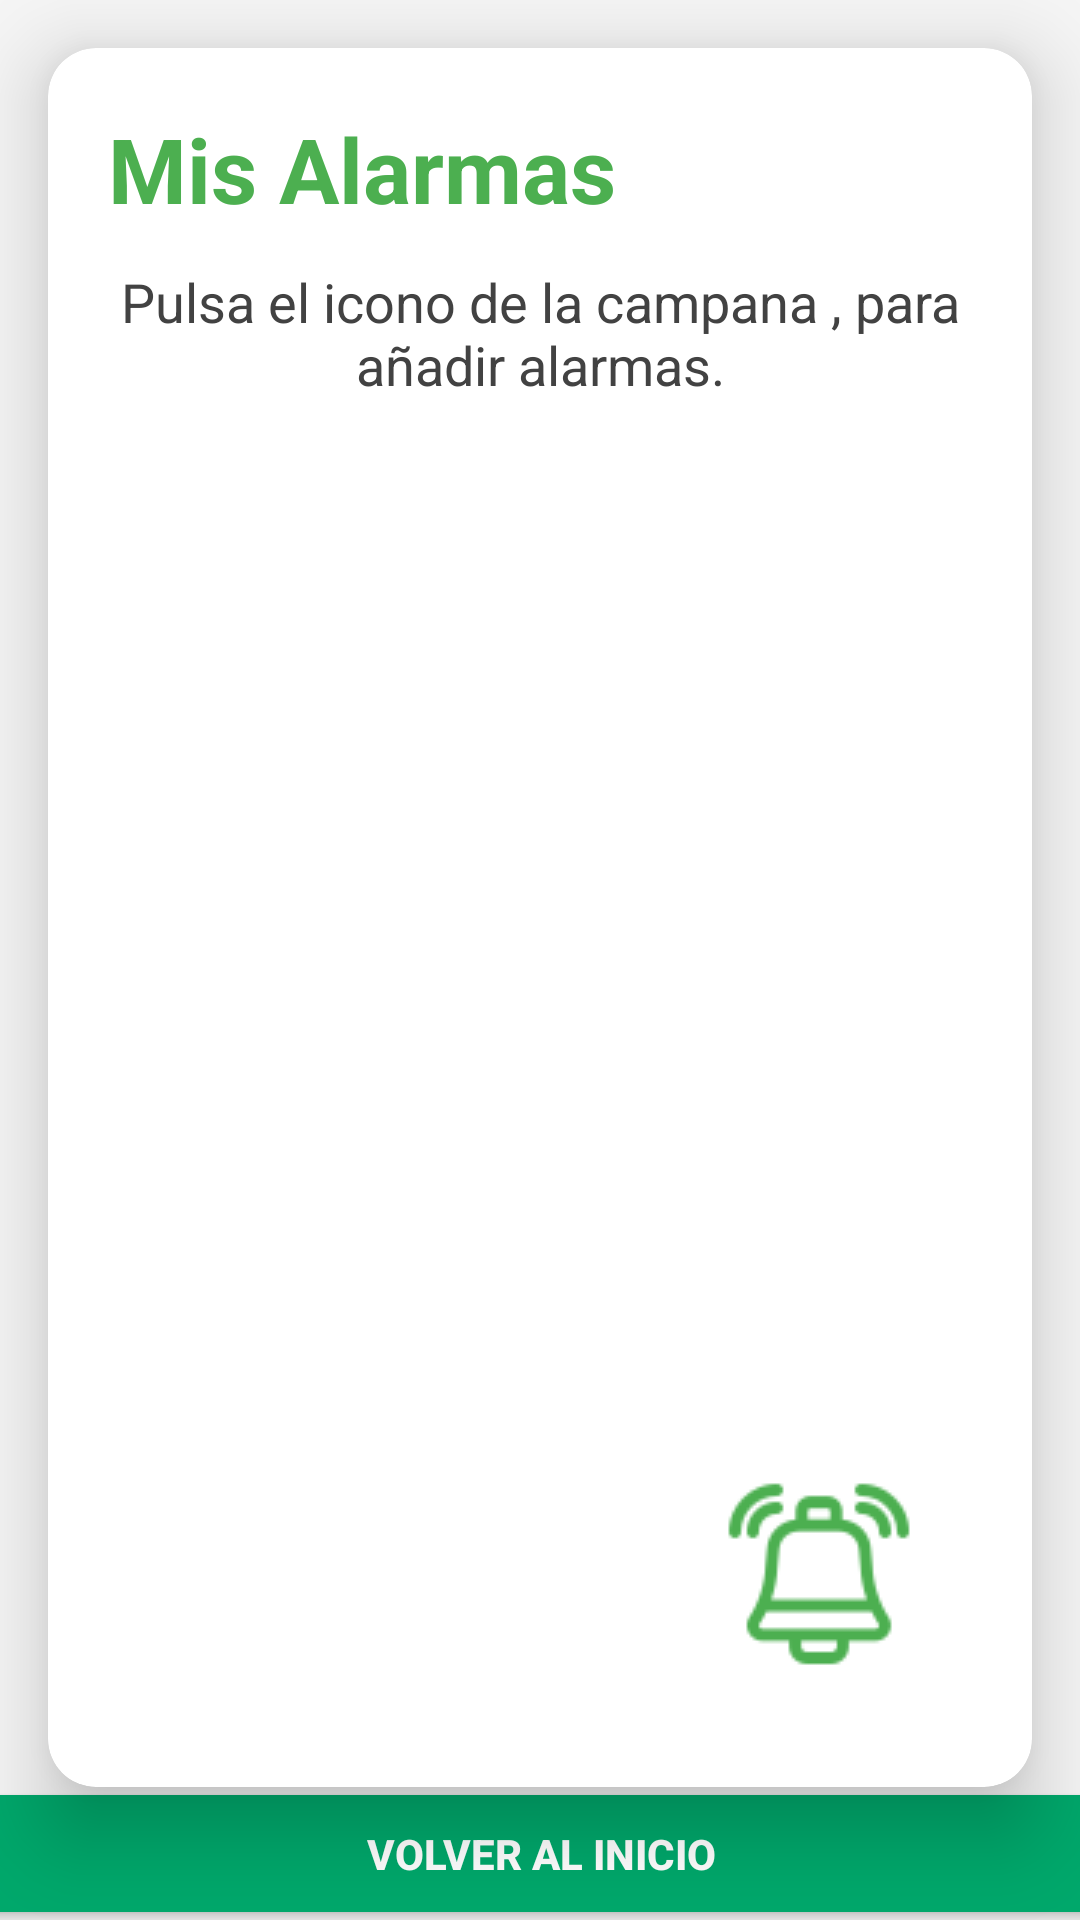

Where icons sit on this 1080×1920 app screen, as (x1, y1, x2, y2):
Crear alarma: (728, 1483, 910, 1665)
